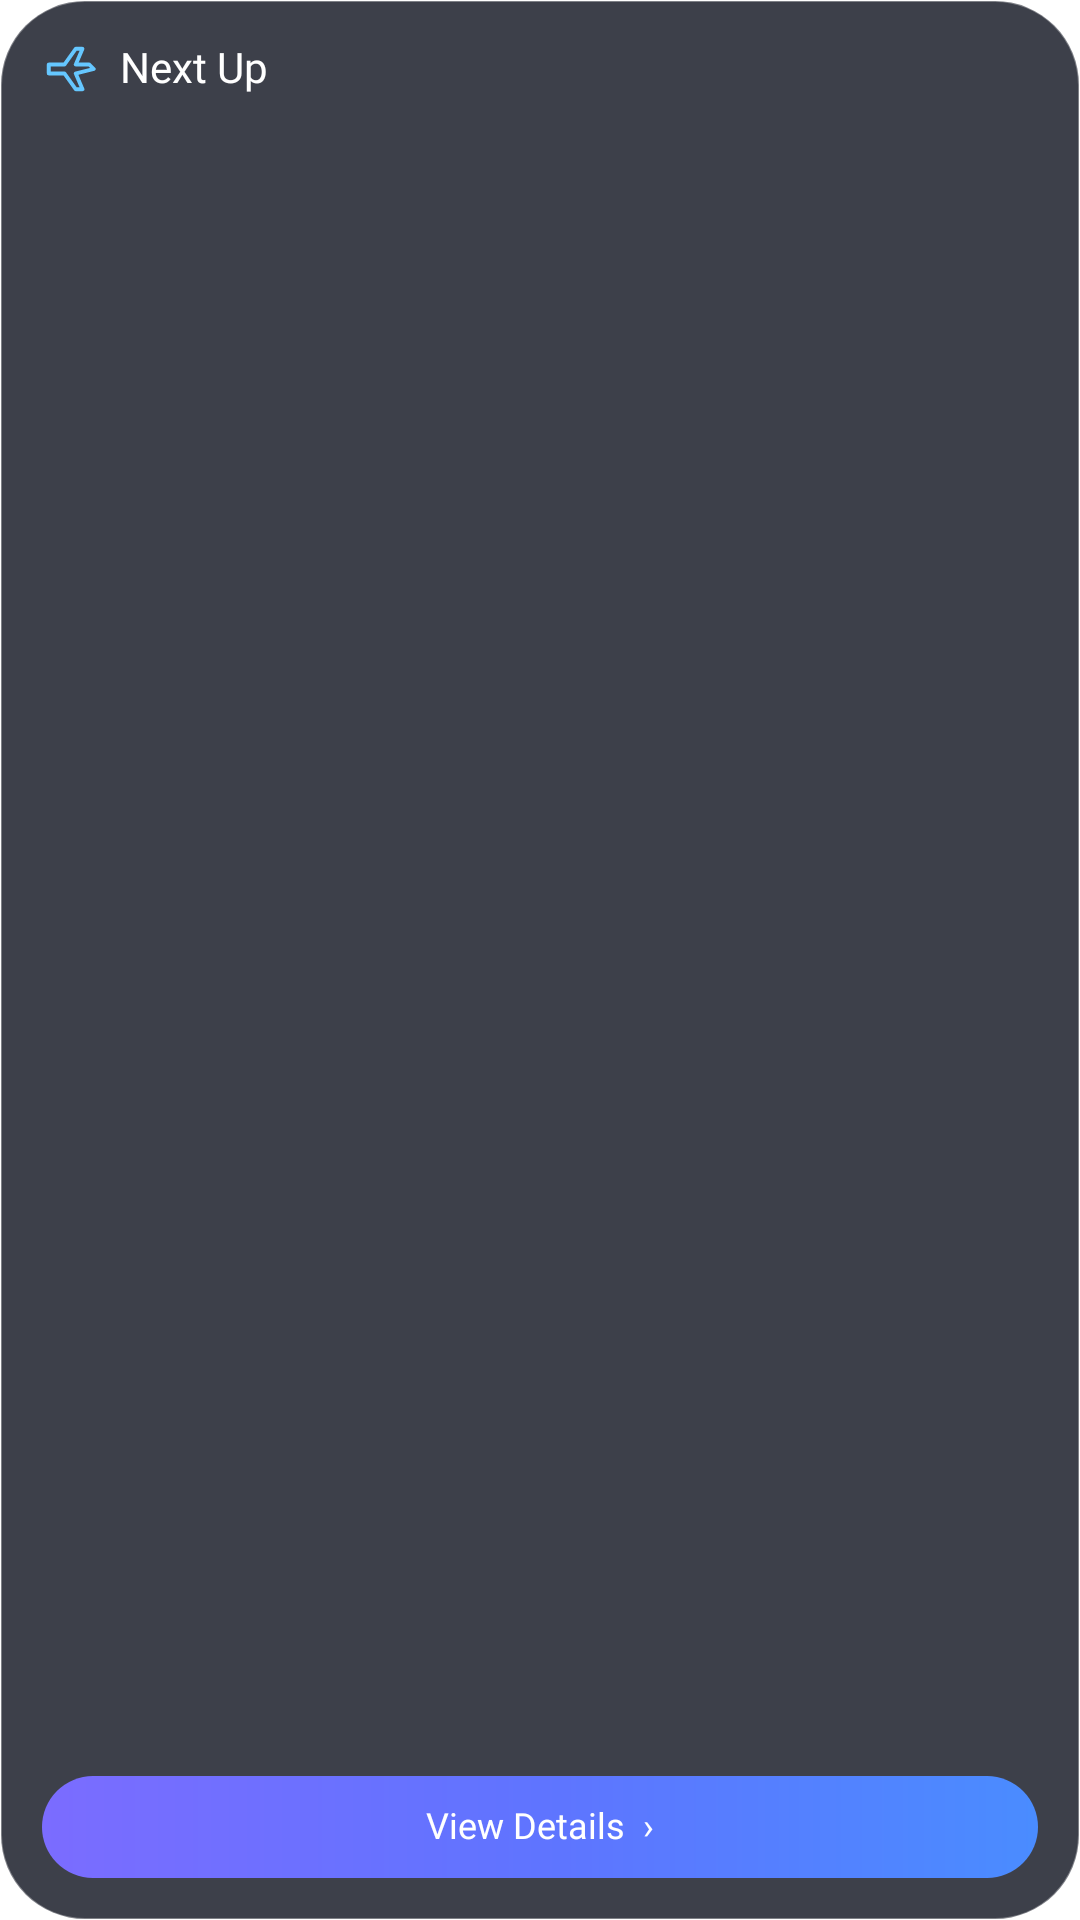

Screen size 1080px x 1920px. Icon name, then its center in pixels as point (x, y):
widget trip: point (71, 69)
